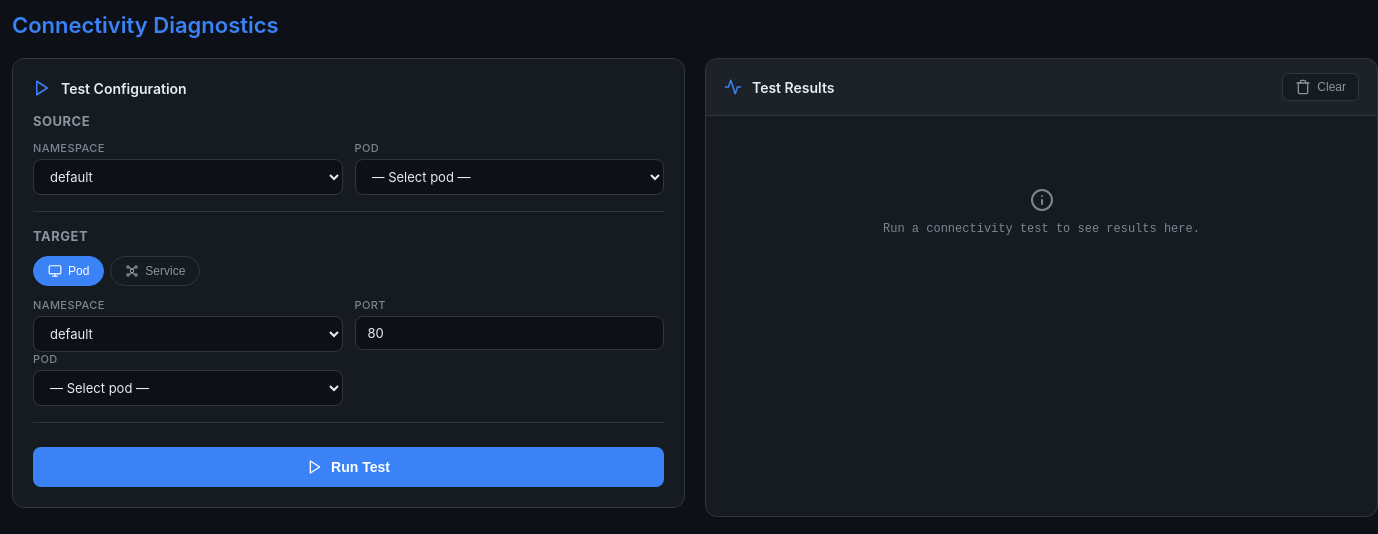
Scenario: DiagnosticsPanel › shows validation error when target pod is not selected
The width and height of the screenshot is (1378, 534).
Select source namespace & pod
Select "production" in the 1st dropdown at (188, 177), box [33,159,342,195]
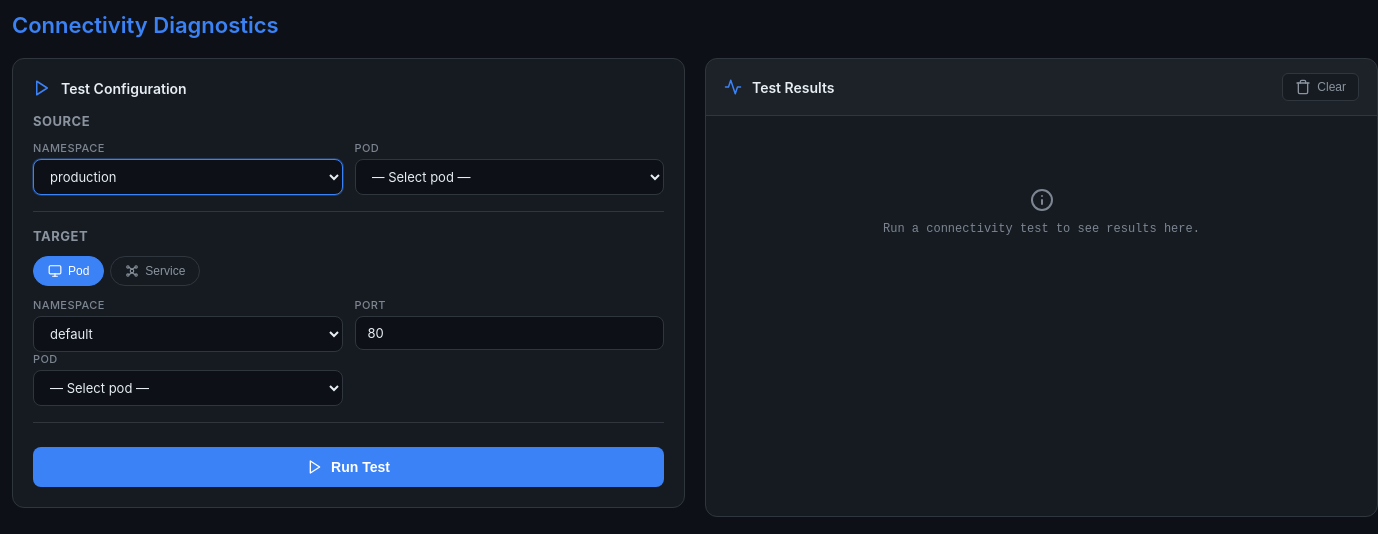
Select "api-1" in the 2nd dropdown at (509, 177), box [354,159,664,195]
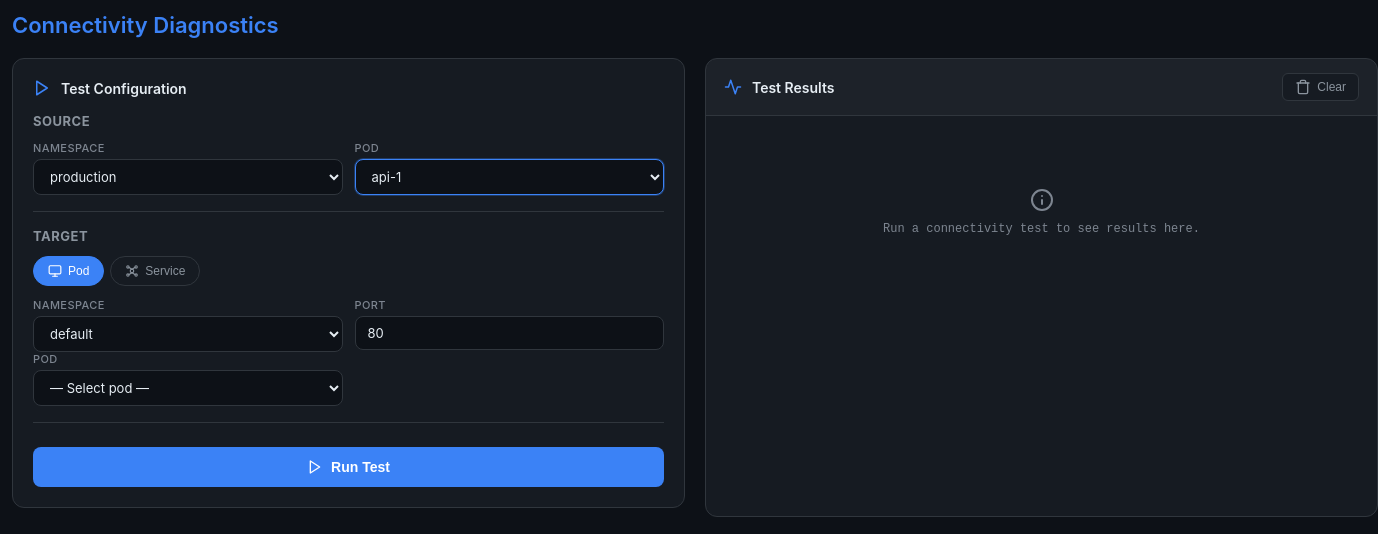
Keep target type as "pod" (default), don't select target pod
Click the button "Run Test".
click(348, 467)  # box [33,447,664,487]
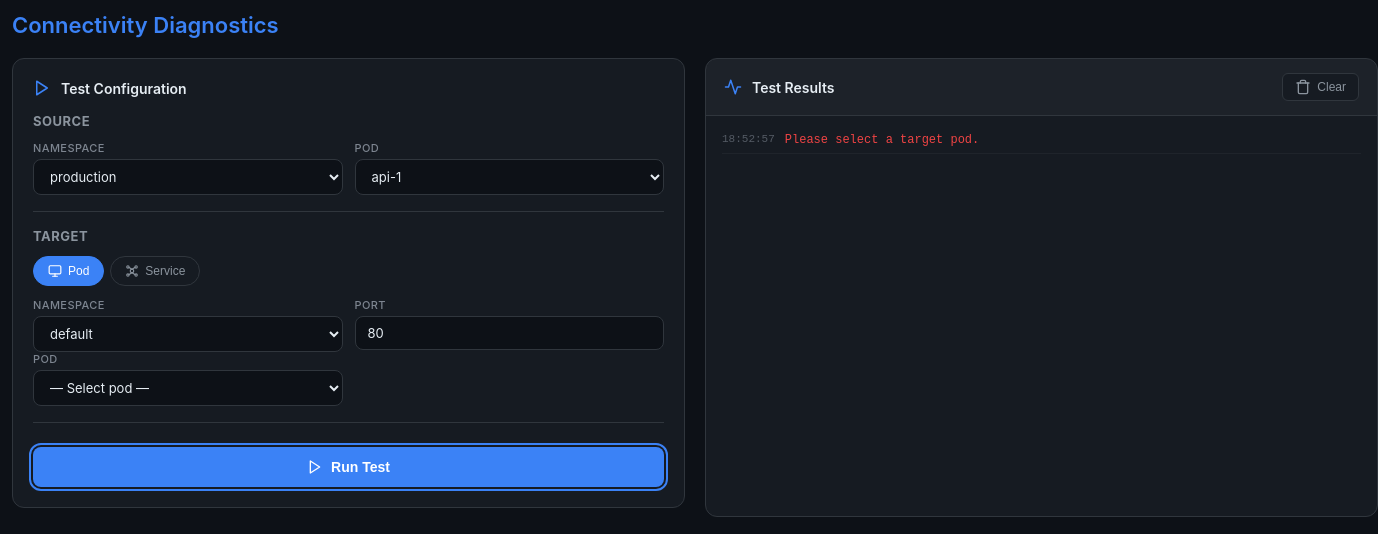
Now the text "Please select a target pod." is shown, box [785,131,979,150]
